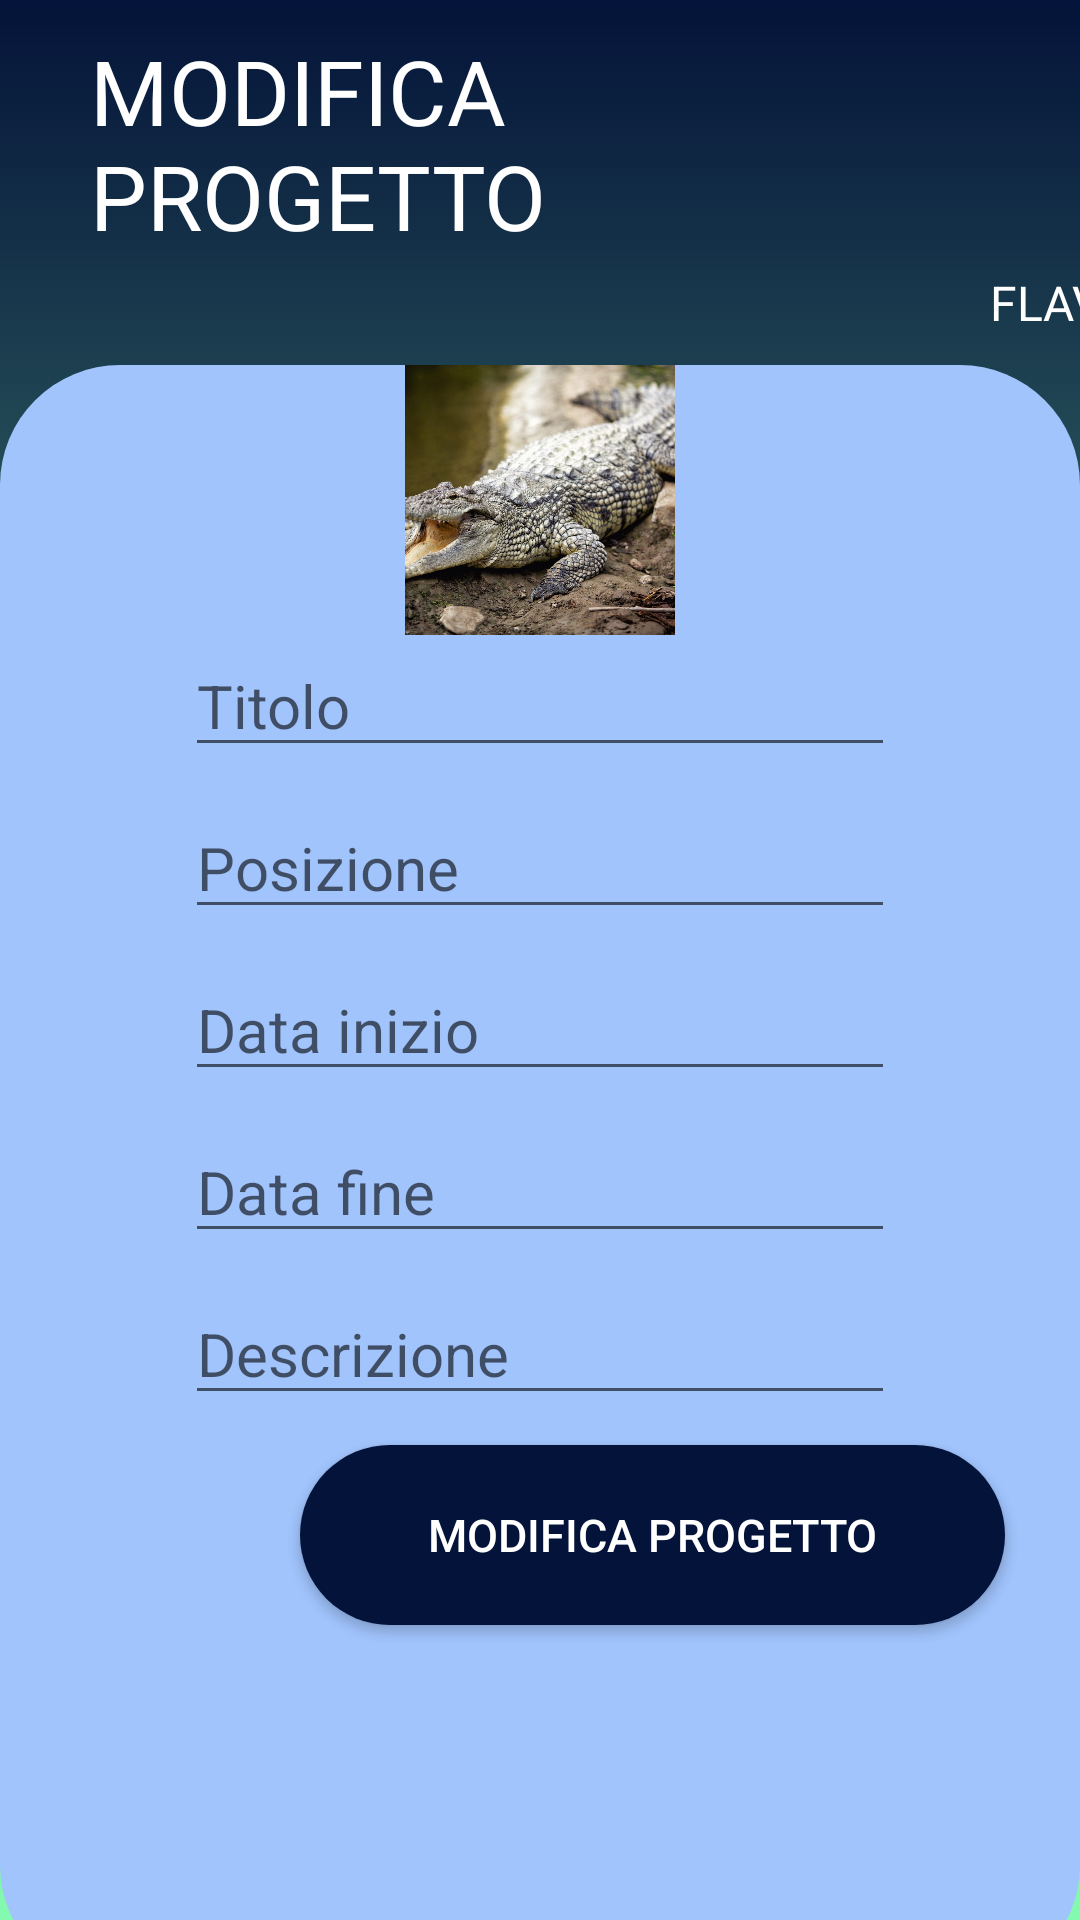

Where to tap for icons on this 1080px×1920px app screen, as point (x, y):
alligatmissisi: point (540, 500)
